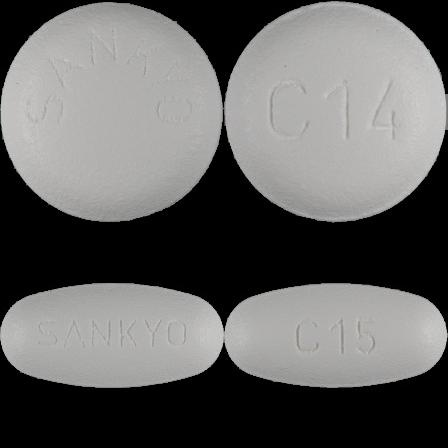51138-212: (0, 0, 224, 224)
